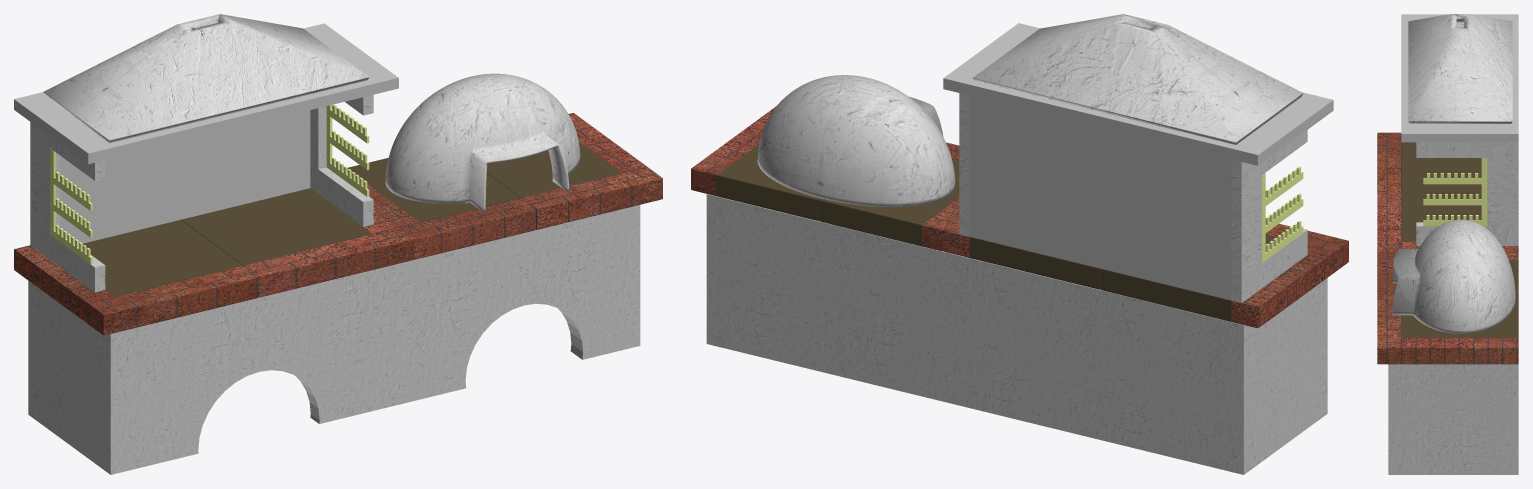
The model's file is BBQ.dae.
3 views of the same model, side by side, from view 1: azimuth 30°, elevation 25°; view 2: azimuth 150°, elevation 25°; view 3: azimuth 270°, elevation 25° (orthographic). The views are drawn at different scales.
Visible parts, largest first — view 1: Cube.012, Cube.013, Cube.018, Cube.017, Cube.015, Sphere, Cube.019, Cube.016, Cube.014, Plane.007, Cube.001; view 2: Cube.012, Cube.015, Cube.018, Cube.017, Sphere, Cube.013, Cube.019, Cube.016, Cube.014, Plane.007, Cube.001; view 3: Cube.018, Cube.017, Sphere, Cube.013, Cube.019, Cube.001, Cube.016, Plane.007.
Part boxes in pixels (x1,y1,x2,y2): Cube.012: [28, 261, 407, 474]; Cube.013: [14, 188, 413, 335]; Cube.018: [407, 205, 640, 402]; Cube.017: [43, 14, 369, 143]; Cube.015: [60, 110, 310, 243]; Sphere: [385, 73, 580, 212]; Cube.019: [347, 113, 662, 259]; Cube.016: [14, 23, 398, 164]; Cube.014: [30, 122, 105, 292]; Plane.007: [50, 104, 369, 264]; Cube.001: [310, 94, 373, 226]; Cube.012: [943, 251, 1327, 474]; Cube.015: [969, 95, 1231, 300]; Cube.018: [706, 194, 943, 401]; Cube.017: [972, 14, 1303, 144]; Sphere: [757, 75, 955, 206]; Cube.013: [943, 219, 1348, 328]; Cube.019: [691, 106, 959, 251]; Cube.016: [943, 23, 1333, 165]; Cube.014: [1231, 130, 1307, 302]; Plane.007: [1262, 166, 1303, 262]; Cube.001: [959, 93, 969, 236]; Cube.018: [1388, 364, 1518, 474]; Cube.017: [1408, 14, 1512, 123]; Sphere: [1392, 219, 1515, 333]; Cube.013: [1377, 132, 1518, 252]; Cube.019: [1377, 252, 1518, 364]; Cube.001: [1416, 142, 1518, 245]; Cube.016: [1401, 14, 1518, 142]; Plane.007: [1423, 158, 1487, 226].
Size of the model in its own units: 2.74 by 0.76 by 1.79.
